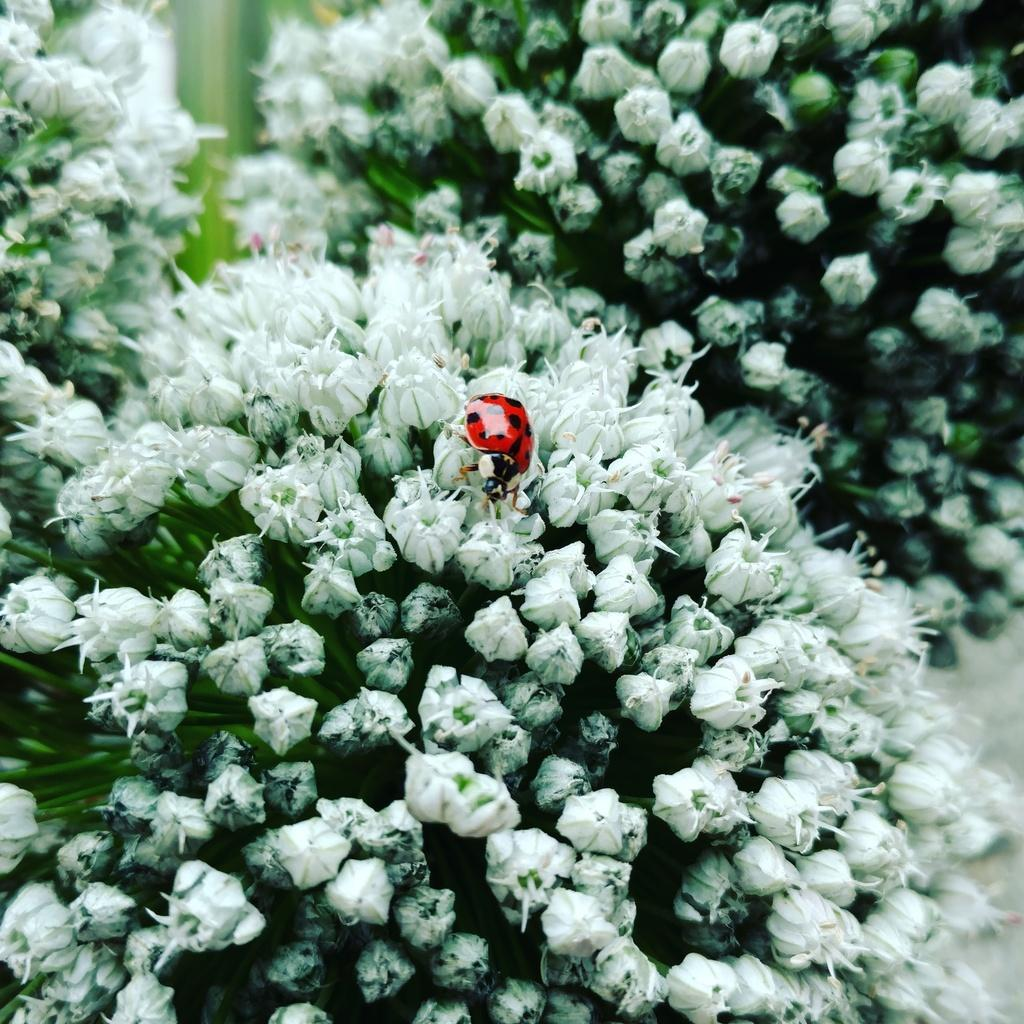ladybug: (450, 391, 538, 516)
